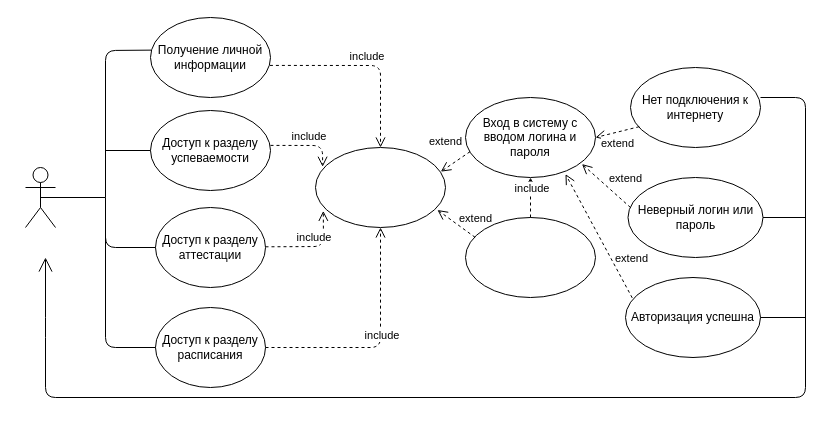
Some shapes in this 837 by 429 pixel diagram are drawn without their labels. The shapes that lost their labels are listed below. From the top down, each one's centre as x and y in pixels, then its label:
(40,197): Студент
(380,187): Вход в систему
(530,257): Повторный вход в систему
